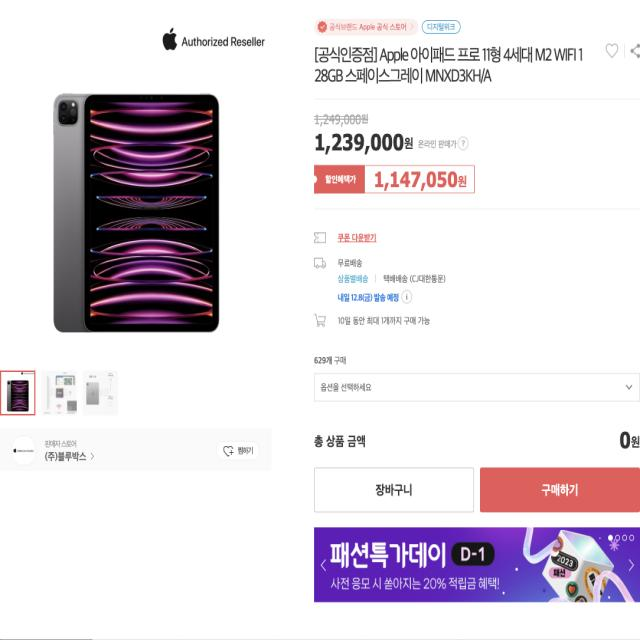product_discount_price: (370, 166, 468, 194)
product_name: (308, 43, 589, 91)
product_original_price: (314, 131, 416, 157)
